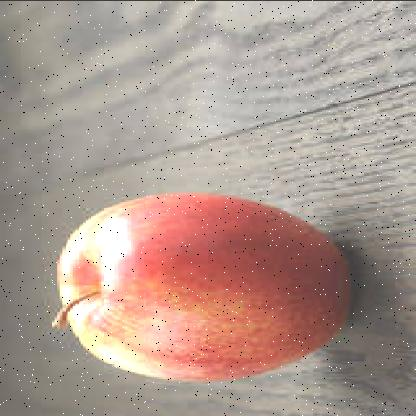apple: (60, 194, 348, 378)
